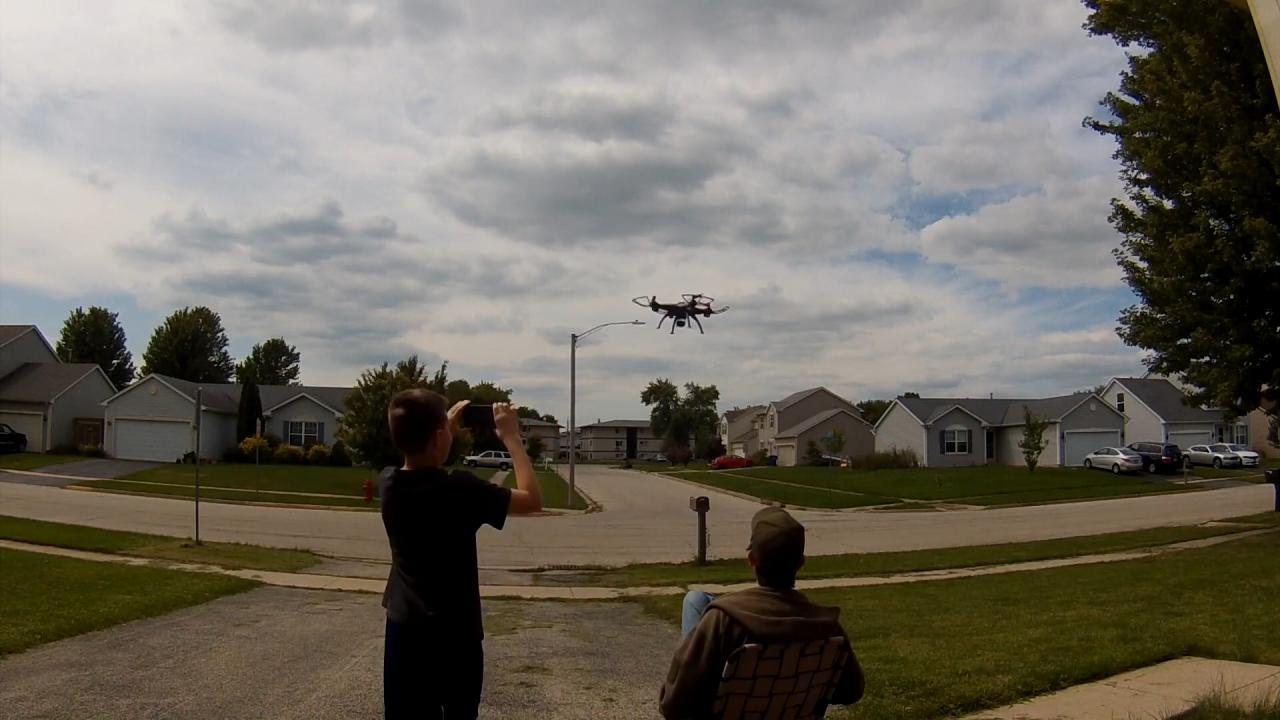Drone: (623, 283, 741, 343)
